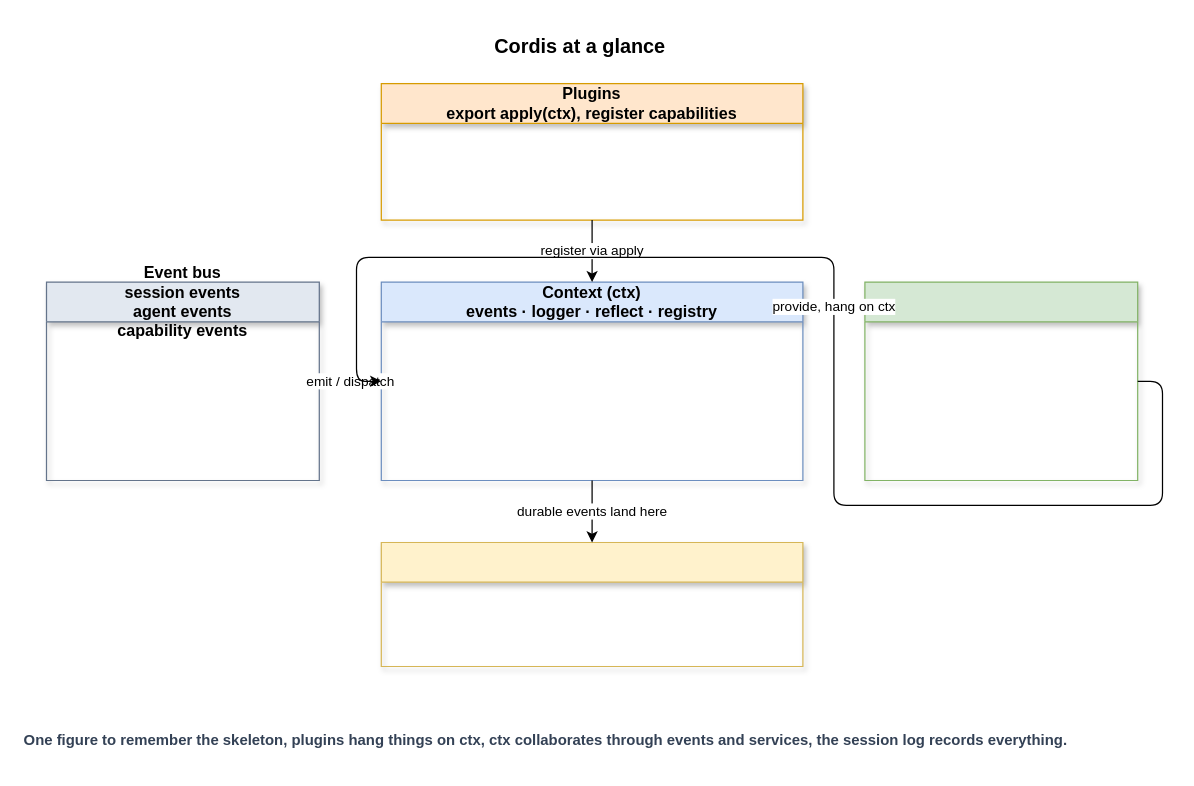
The diagram is 1194 pixels wide and 786 high, and some of its shapes have lost their labels. Each missing label, with the centre of its shape:
Services hanging on ctx names replaceable, e.g. ctx.tools: point (1002, 382)
Session log model-visible means logged: point (592, 605)
